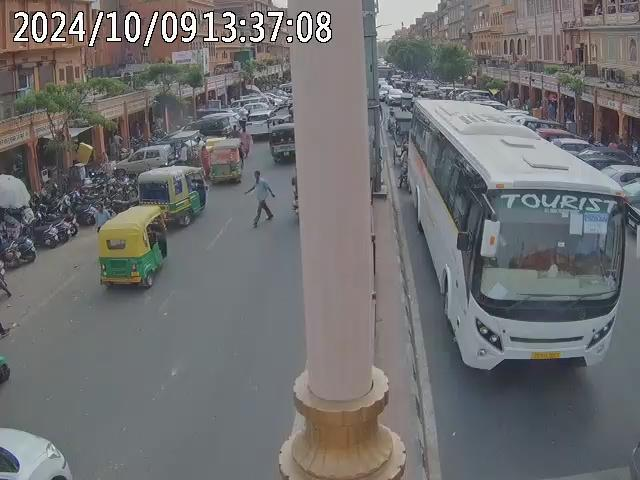auto: (96, 202, 170, 292), (134, 163, 207, 226), (199, 137, 243, 185), (266, 121, 294, 165)
bus: (408, 96, 626, 372)
car: (0, 421, 73, 480), (114, 144, 177, 173), (623, 384, 639, 479), (246, 106, 276, 140), (384, 87, 406, 108)
license_plate: (528, 349, 560, 358)
person: (248, 170, 274, 224), (0, 225, 8, 297)
scooty: (28, 192, 77, 248)
